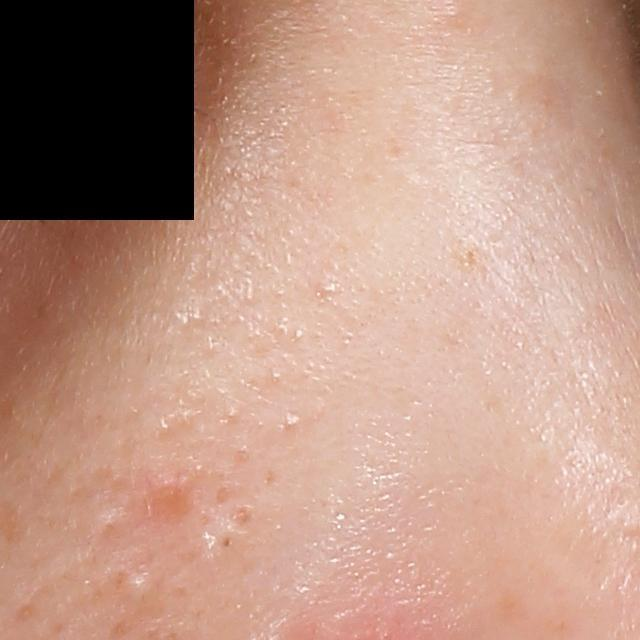comedo: (81, 500, 136, 555), (124, 566, 161, 612), (280, 406, 304, 435), (223, 401, 247, 425), (217, 533, 238, 554)
